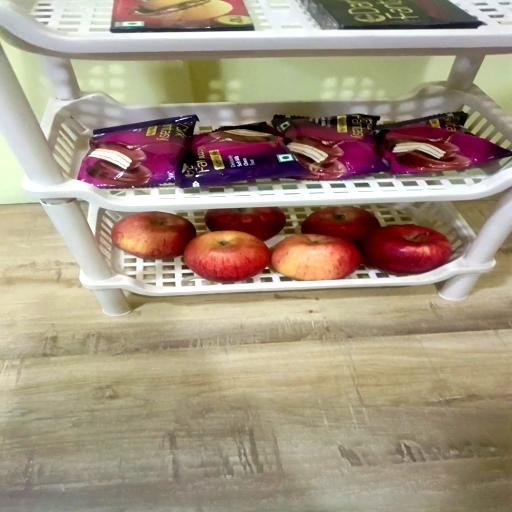Apple: (359, 226, 450, 276), (185, 233, 272, 284), (272, 236, 362, 282), (110, 213, 195, 261), (303, 206, 380, 245), (207, 209, 287, 243)
Choco Fills: (299, 0, 482, 30), (114, 0, 256, 32)
Choco Pie: (76, 114, 196, 188), (180, 120, 310, 186), (376, 110, 511, 172), (273, 113, 384, 181)
